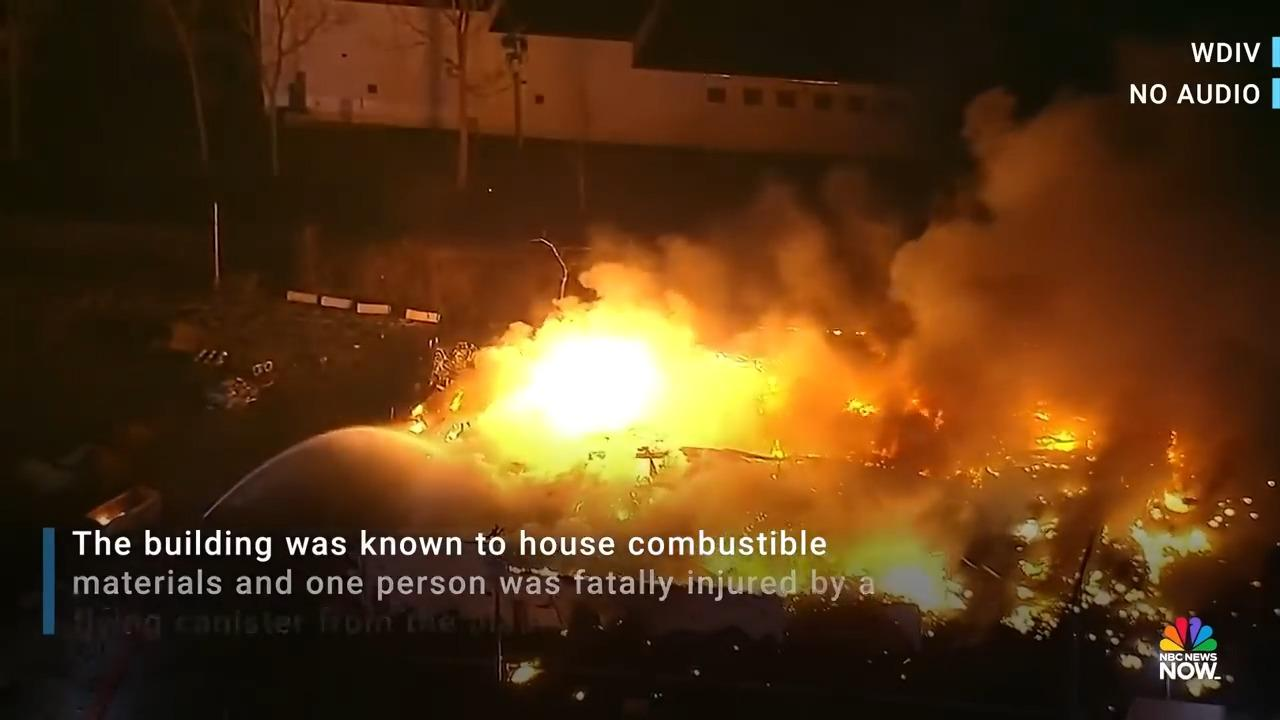fire: (624, 276, 887, 511), (443, 370, 850, 514), (503, 333, 743, 469), (1147, 496, 1220, 565), (886, 556, 960, 617), (1046, 417, 1079, 457), (1007, 510, 1048, 542)
